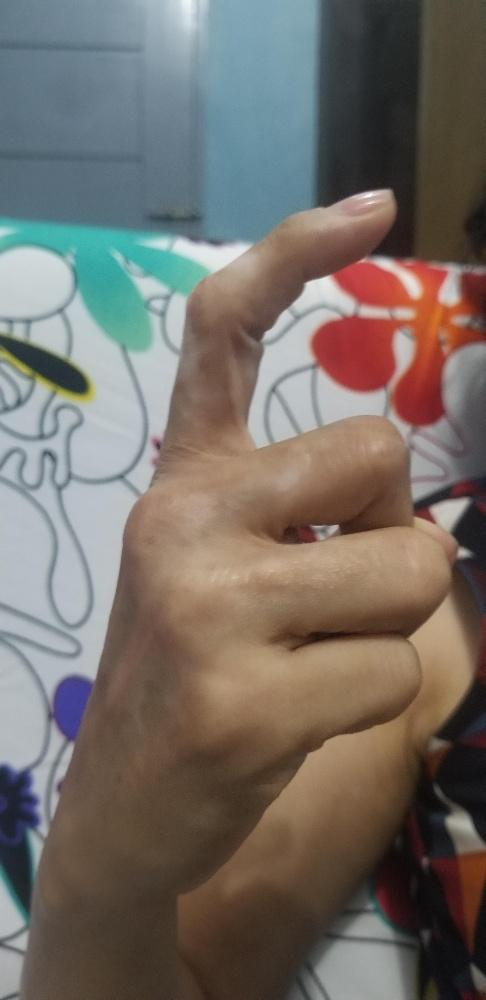x: (42, 181, 461, 896)
